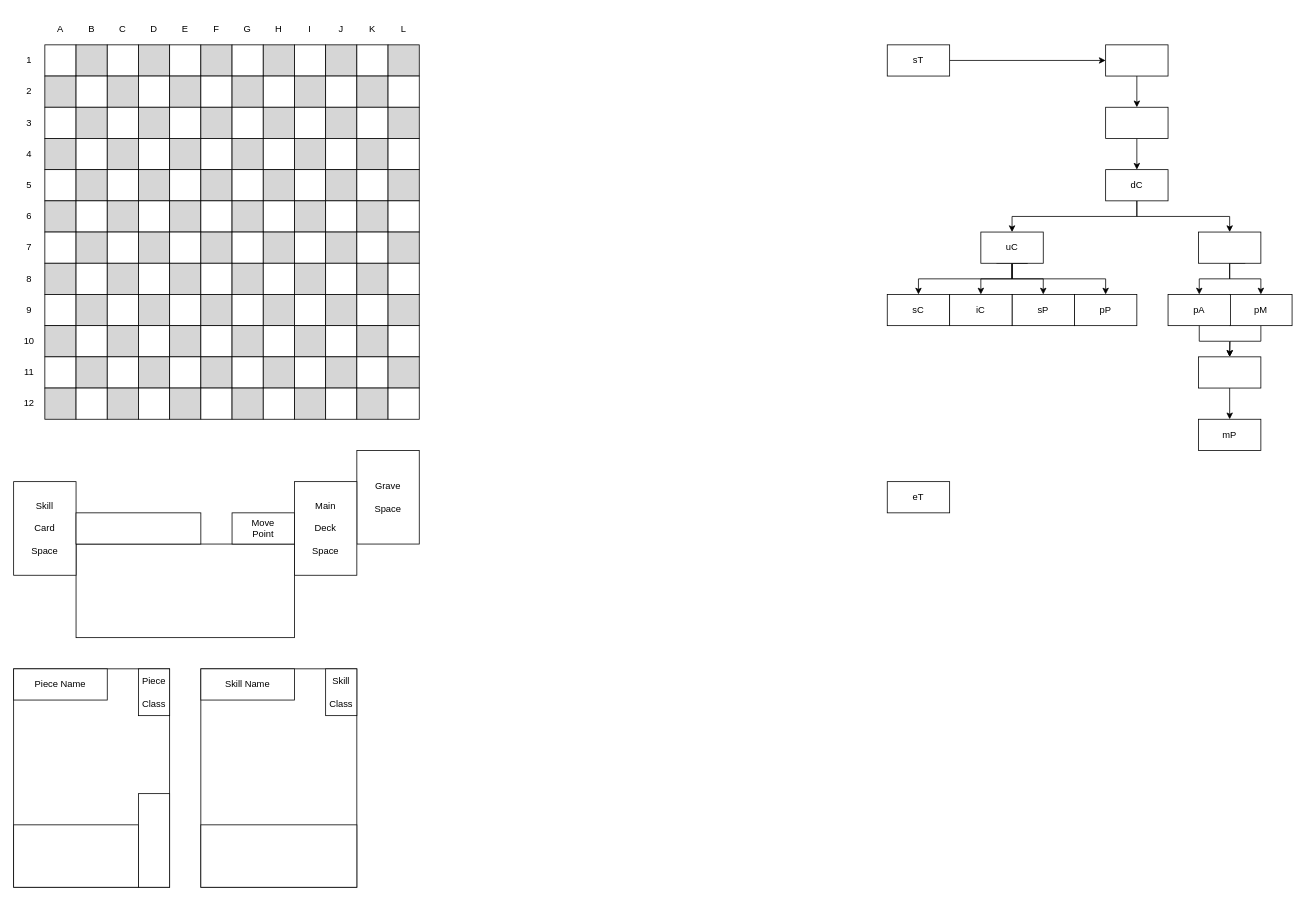
Image size: 1306x901. Some labels were removed from this diagram. Each missing label, with the box of its shape:
Condition / Skill Effect: (200, 824, 357, 887)
eR: (1198, 356, 1261, 388)
mpF: (1105, 106, 1168, 138)
mpMU: (1105, 44, 1168, 76)
pC: (1198, 231, 1261, 263)
Piece Class Limit: (75, 512, 201, 544)
Piece Stat: (138, 793, 170, 887)
Piece Unique Passive Skill: (13, 824, 138, 887)
Player Hand Space: (75, 543, 294, 638)
